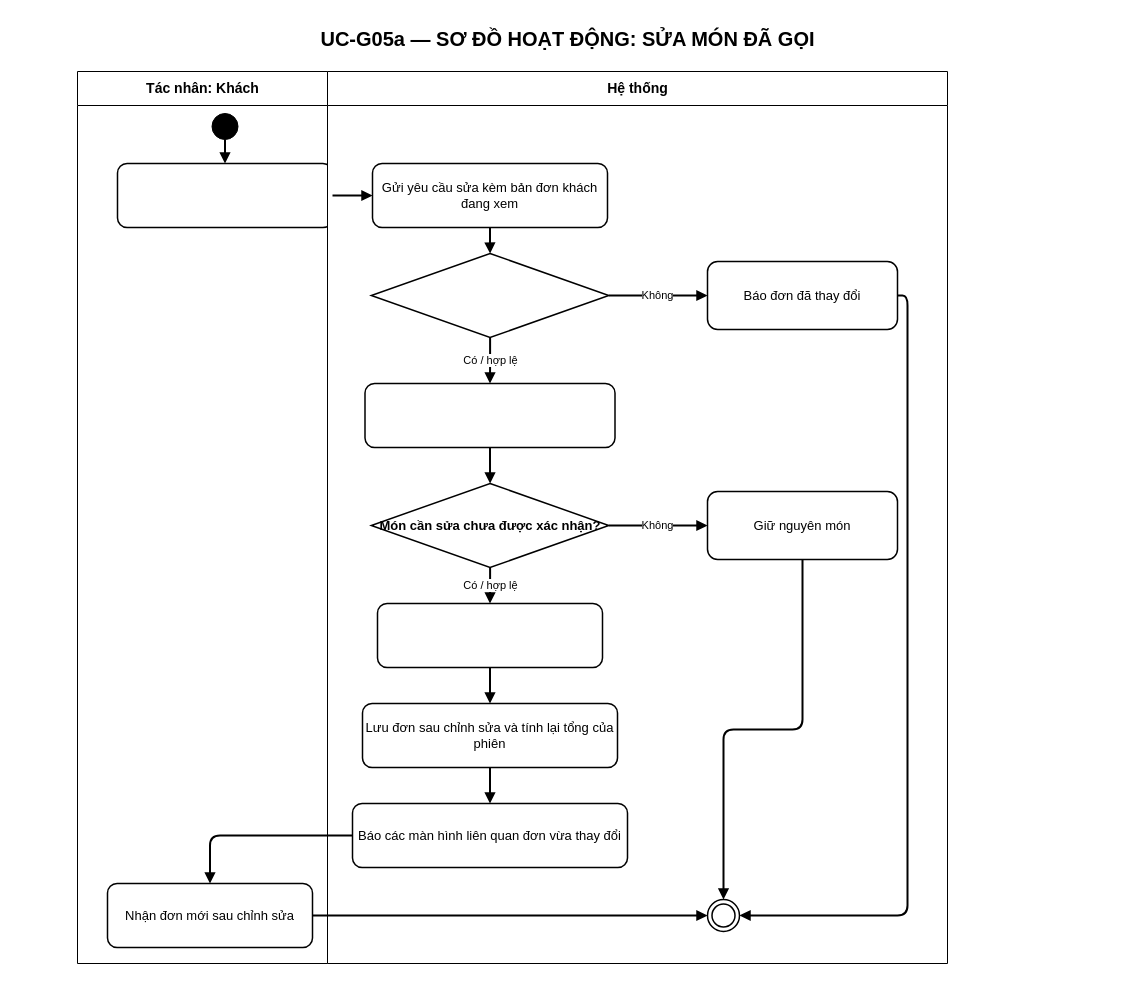
This 1134x981 diagram has some shape labels left out. The centre of each missing label's shape, as x and y in pixels:
"Kiểm lại giá, tùy chọn và bỏ món khách đã gỡ khỏi đơn" belongs at (x=489, y=635).
"Mở đơn vừa gửi và sửa số lượng, ghi chú hoặc tùy chọn" belongs at (x=224, y=195).
"Đơn chưa bị người khác thay đổi?" belongs at (x=489, y=295).
"Đọc trạng thái từng món trong đơn" belongs at (x=489, y=415).
